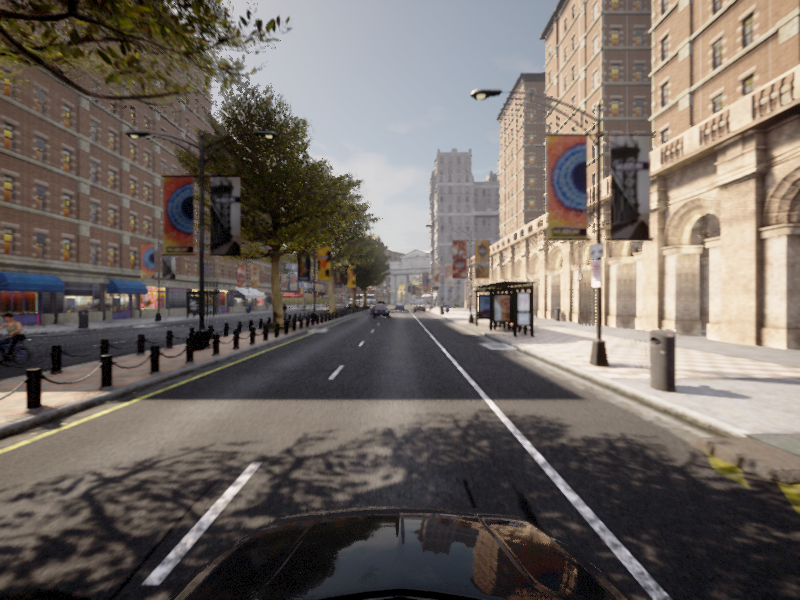vehicle: (1, 312, 44, 372), (369, 305, 390, 318), (276, 302, 289, 320)
